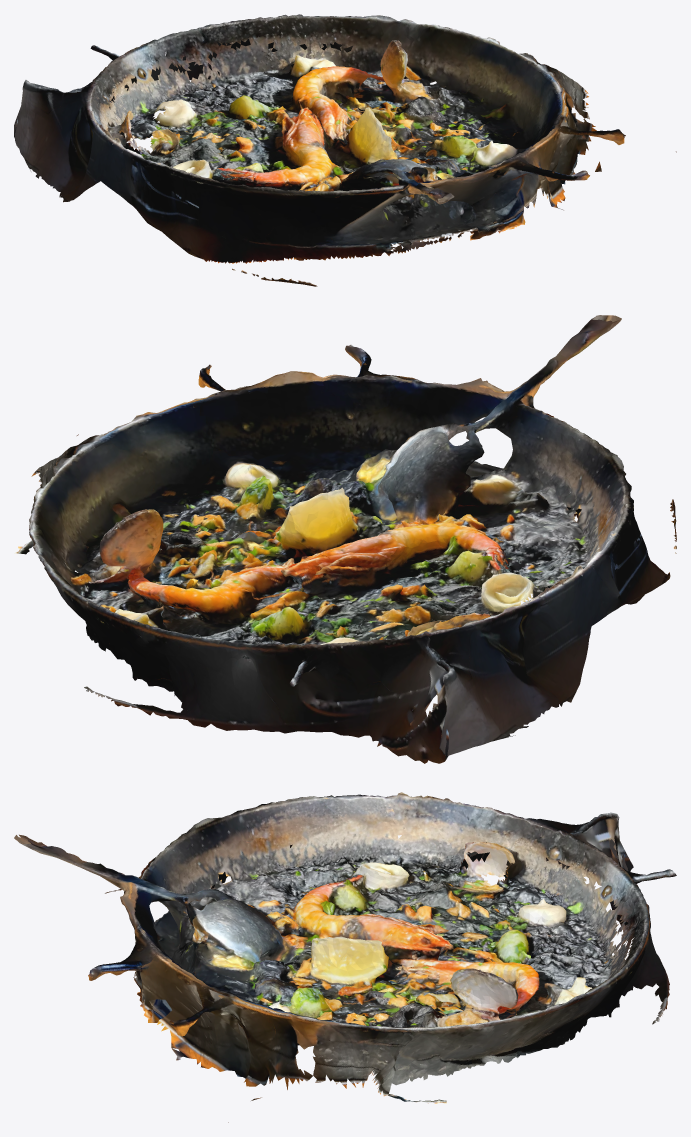
File: arroz-negro.glb
3 views of the same model, one above another, from view 1: azimuth 30°, elevation 25°; view 2: azimuth 150°, elevation 25°; view 3: azimuth 270°, elevation 25° (orthographic). The views are drawn at different scales.
Parts seen in each view (by area): view 1: Object_2; view 2: Object_2; view 3: Object_2.
Part boxes in pixels (x1=…): Object_2: x1=14, y1=14, x2=676, y2=286; Object_2: x1=14, y1=315, x2=676, y2=763; Object_2: x1=14, y1=792, x2=676, y2=1122.
Size of the model in its own units: 0.3728 by 0.0813 by 0.3933.
Materials: 1 (1 with a texture image).
